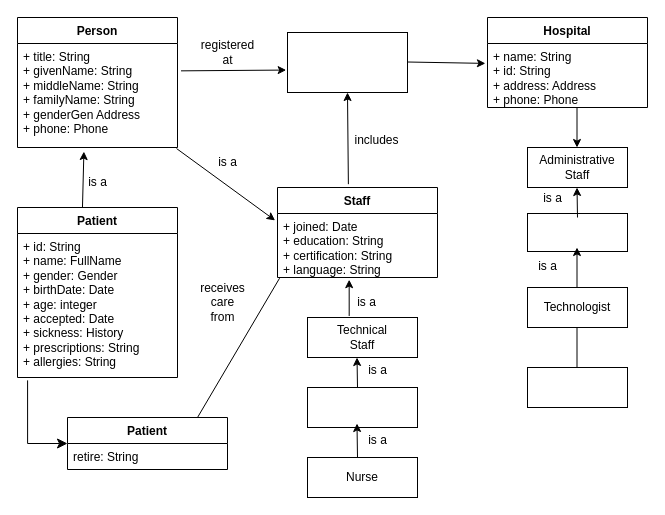
The diagram is 665 pixels wide and 515 high, and some of its shapes have lost their labels. The shapes that lost their labels are listed below. From the top down, each one's centre as x and y in pixels, then its label:
(347,62): Department
(577,232): Technician
(362,407): Doctor
(577,387): Surgical Technologist
